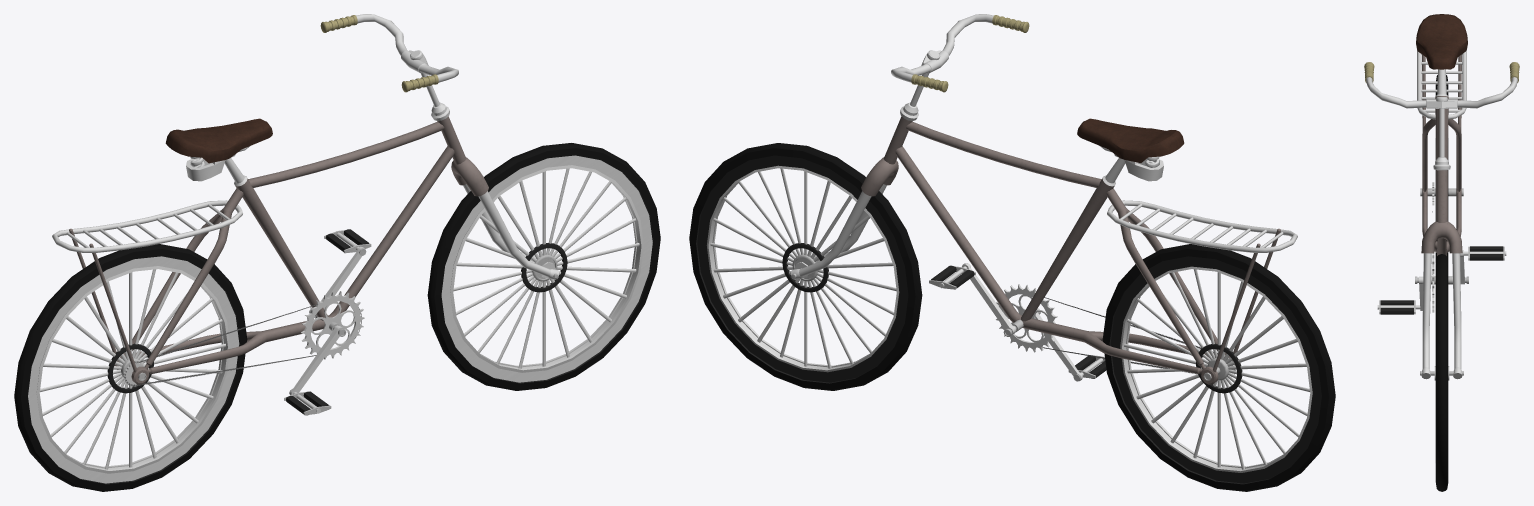
Rendered from brownBike.fbx.
3 views of the same model, side by side, from view 1: azimuth 30°, elevation 25°; view 2: azimuth 150°, elevation 25°; view 3: azimuth 270°, elevation 25° (orthographic). The views are drawn at different scales.
Visible parts, largest first — view 1: brownBike_NoMove; view 2: brownBike_NoMove; view 3: brownBike_NoMove.
Boxes of the visible parts, x1,y1,x2,y2 form: brownBike_NoMove: (14,14,660,491); brownBike_NoMove: (689,14,1335,491); brownBike_NoMove: (1364,14,1519,491).
Size of the model in its own units: 2.57 by 1.44 by 0.5974.
